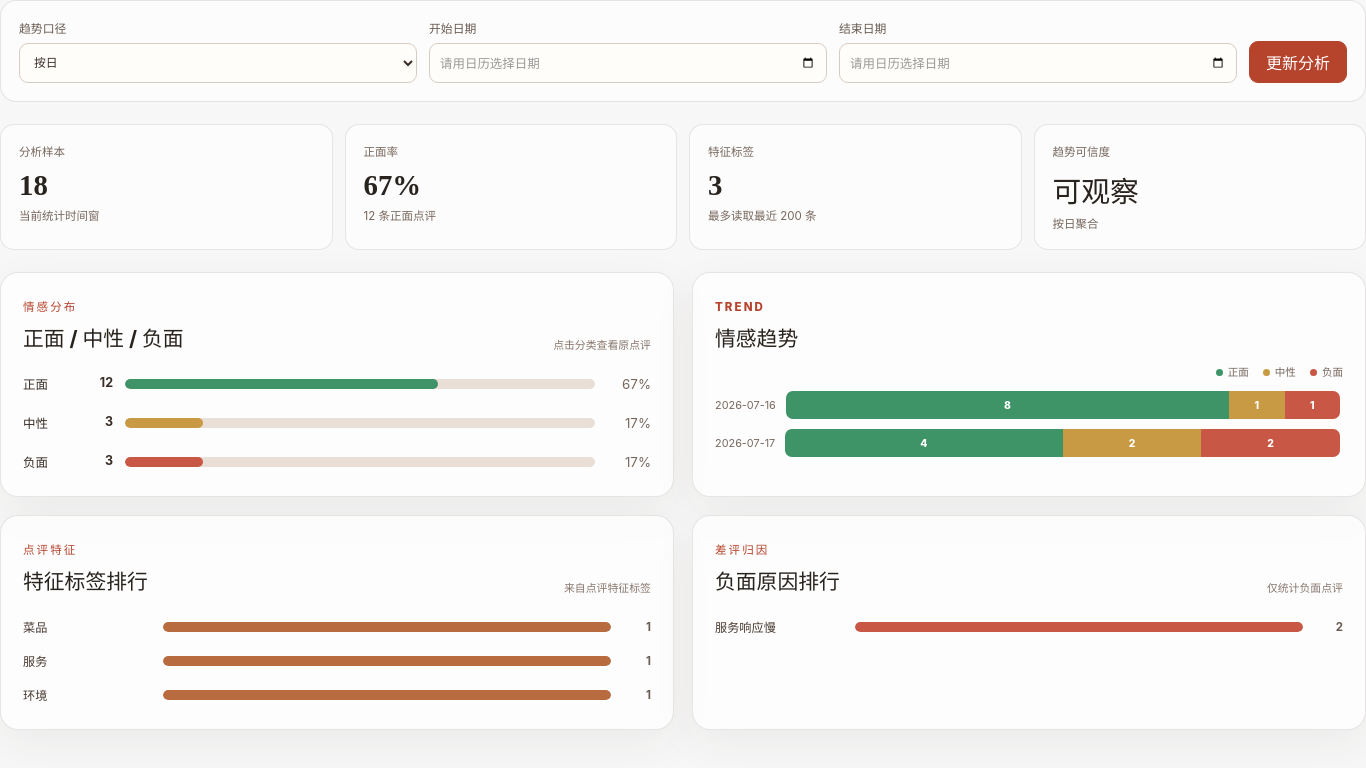
Test: MerchantAnalyticsDashboard › filters aspect drill-down from the review aspect labels
Click the button "菜品 1": (337, 627) [23, 615, 651, 639]
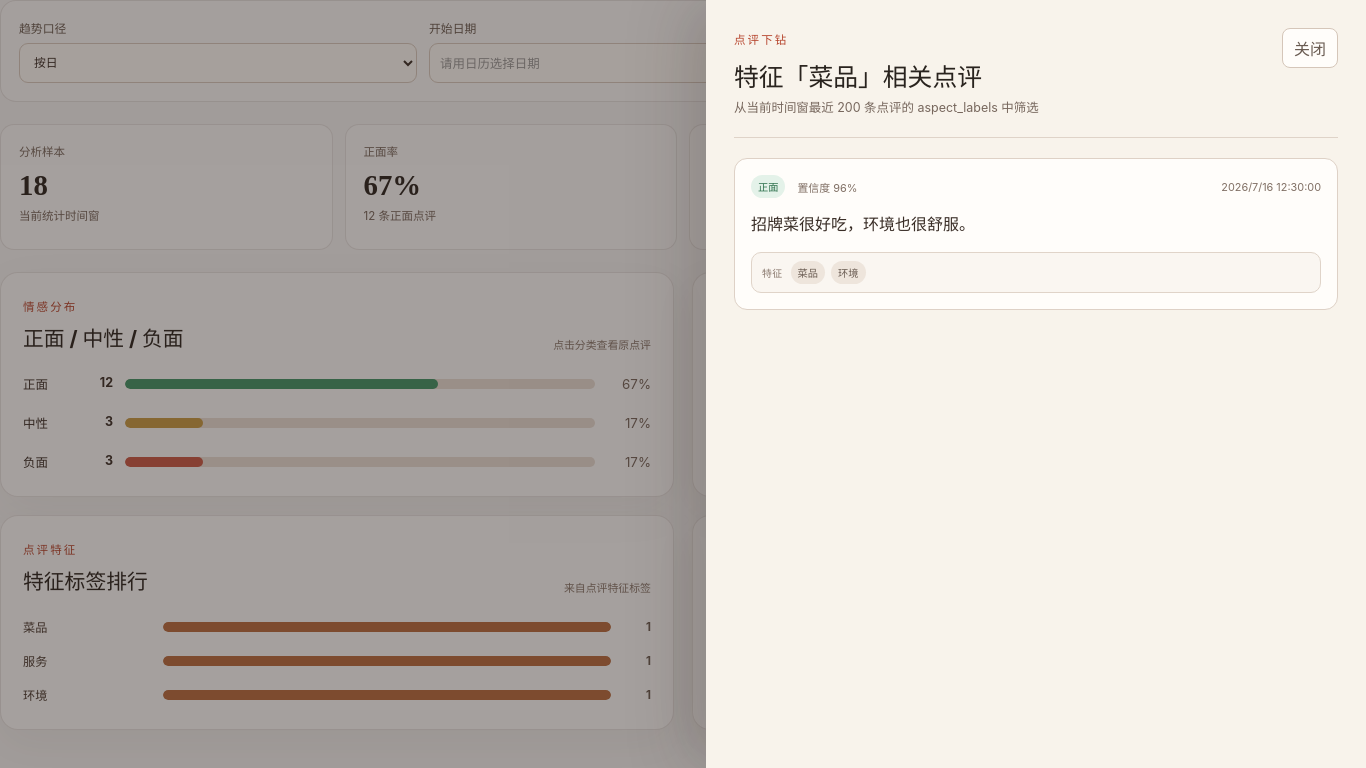
Result: the dialog shows "特征「菜品」相关点评" at [734, 62, 982, 92]
Result: the dialog shows "招牌菜很好吃" at [751, 214, 975, 234]
